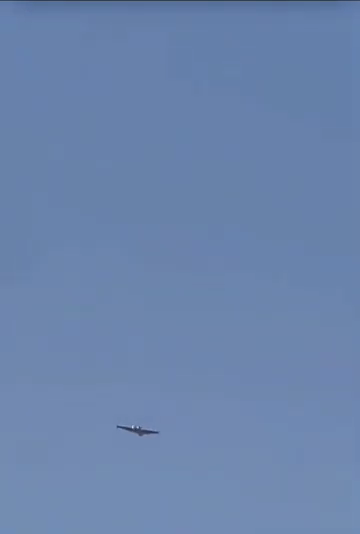shahed: (115, 422, 160, 437)
